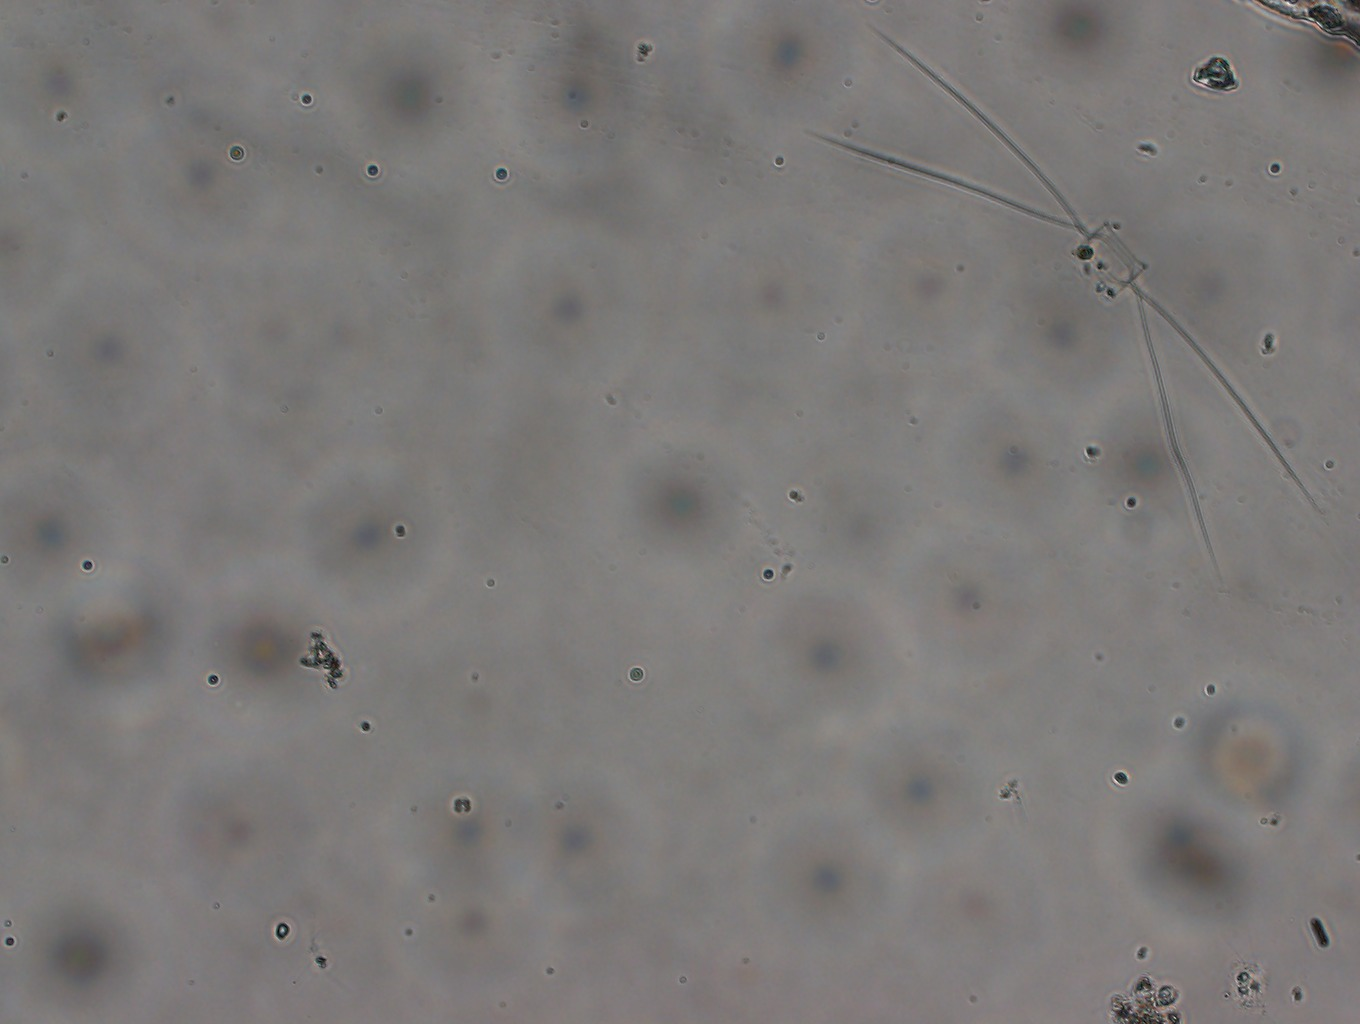chaetoceros: (794, 20, 1327, 587)
